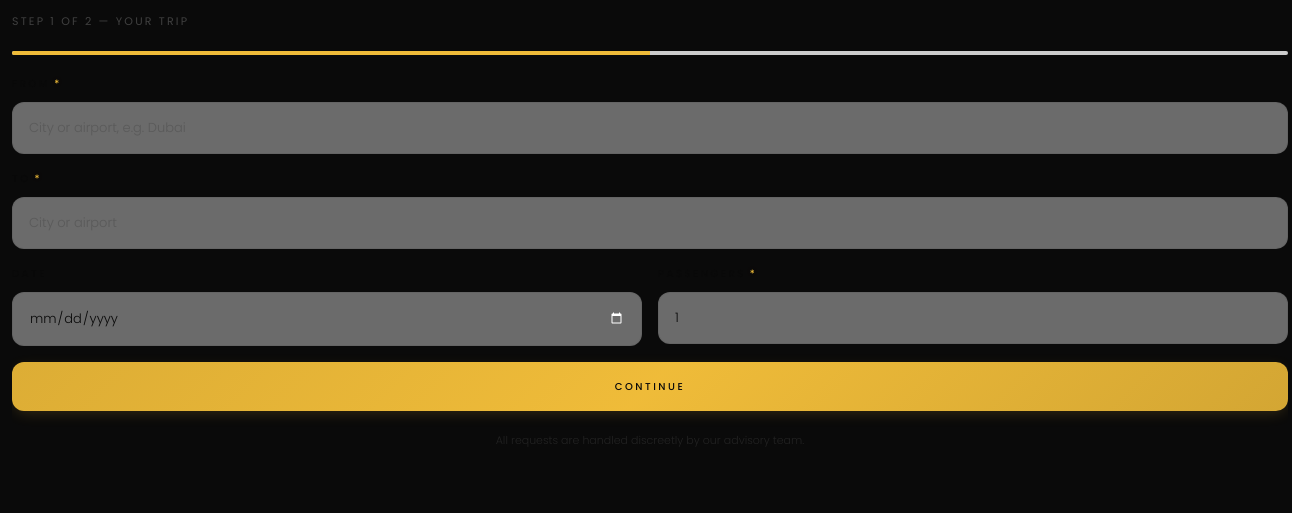
Test: TwoStepQuoteForm › blocks step 1 when route is missing
What coordinates should you click on to do the following:
click the button "Continue"
I would click on:
 (650, 386)
Its box is [12,362,1288,411].
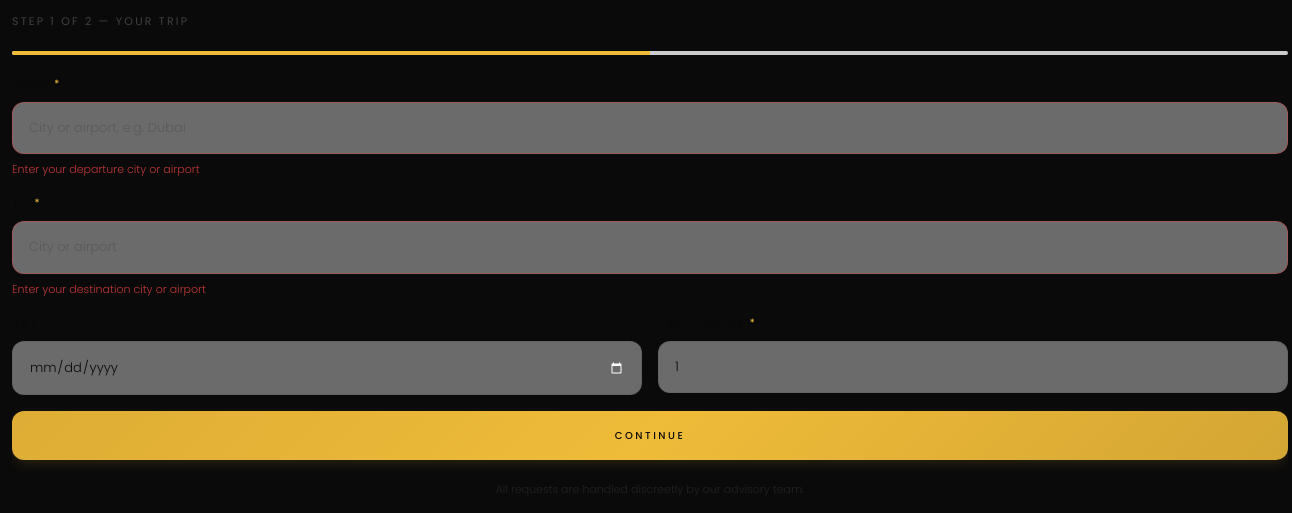
Expected: the text "Step 1 of 2 — Your trip" is shown, [12,13,189,29]
Now the text "Enter your departure city or airport" is shown, box [12,161,200,177]
